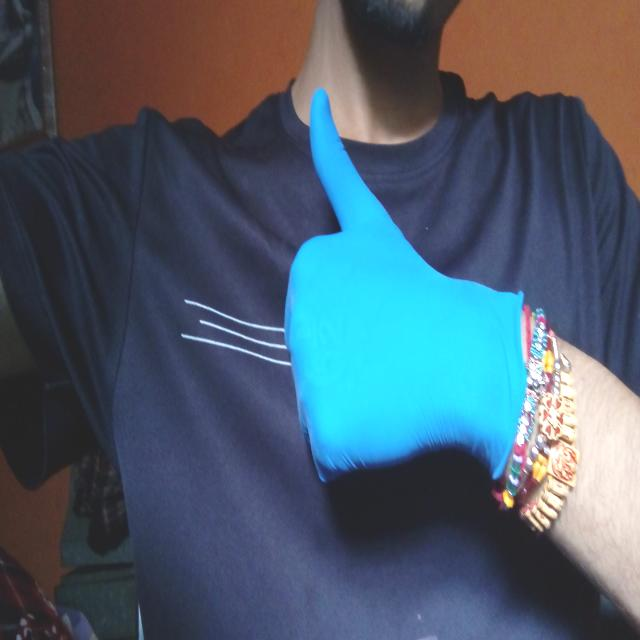glove: (282, 78, 534, 504)
